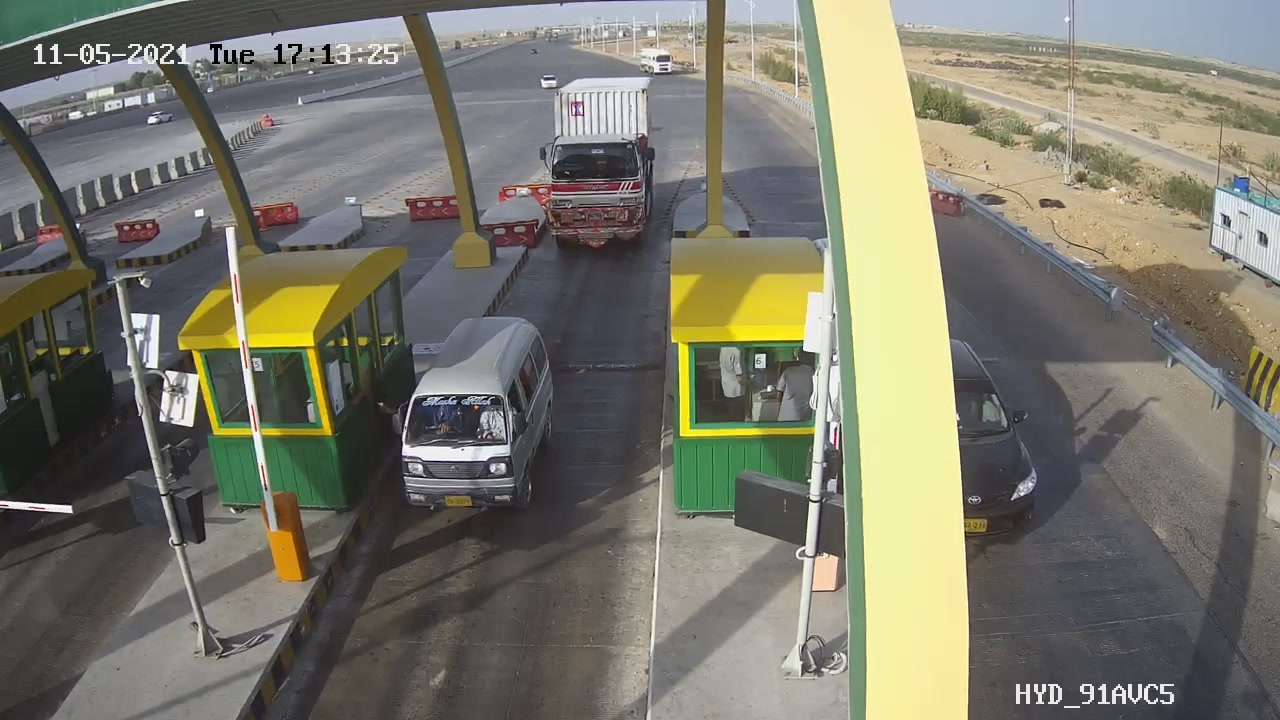F1: (376, 304, 574, 535)
